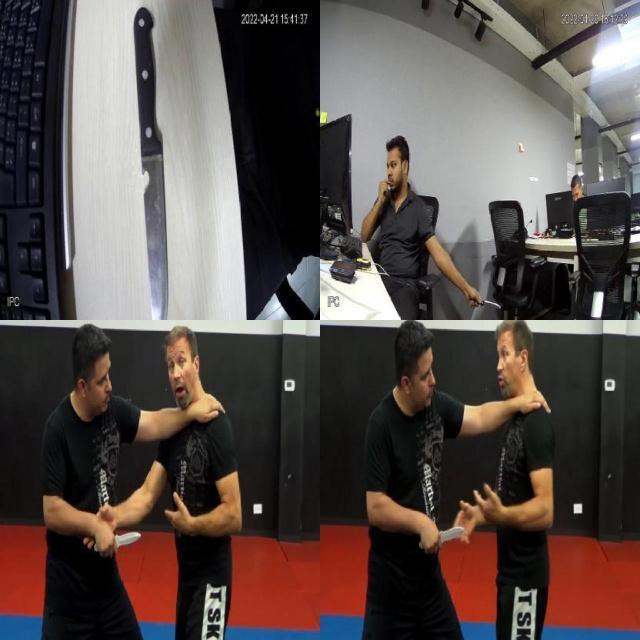-: (122, 10, 181, 319), (92, 528, 142, 557), (416, 523, 465, 552), (472, 292, 502, 313)
